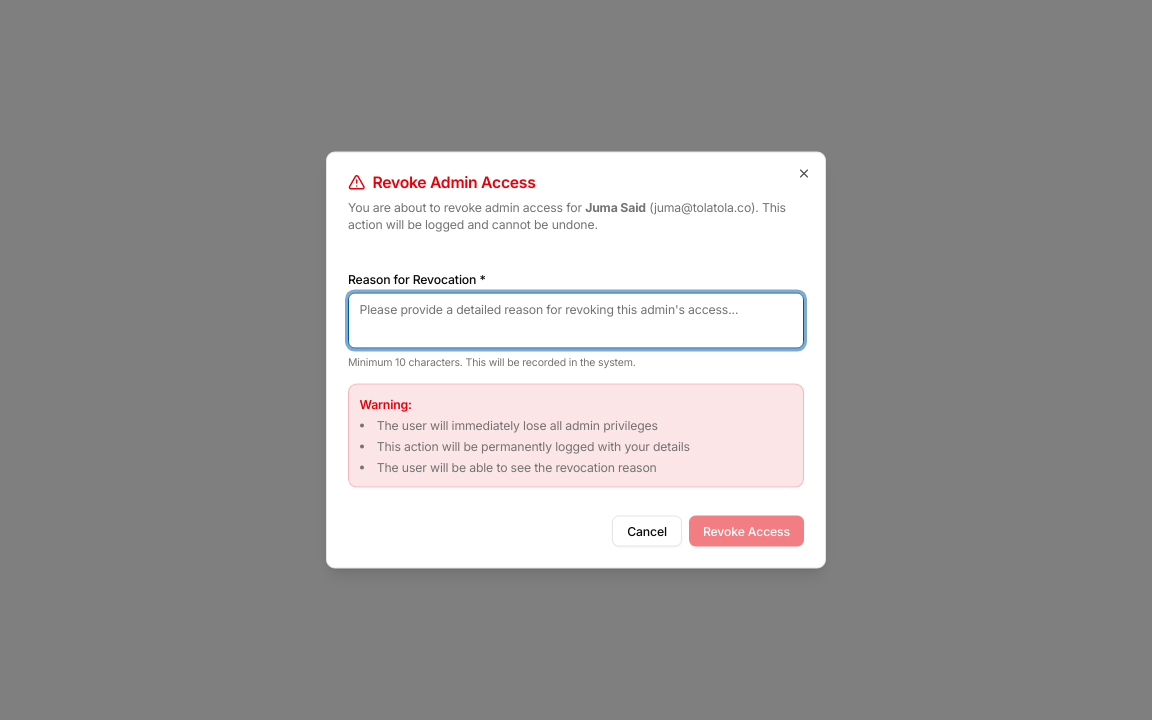
Test: RevokeAdminDialog › calls onConfirm with the trimmed-valid reason and clears the textarea
Type "Repeated policy violations" into the text box labelled "Reason for Revocation *" at x=576, y=320, box x1=348 y1=292 x2=804 y2=348
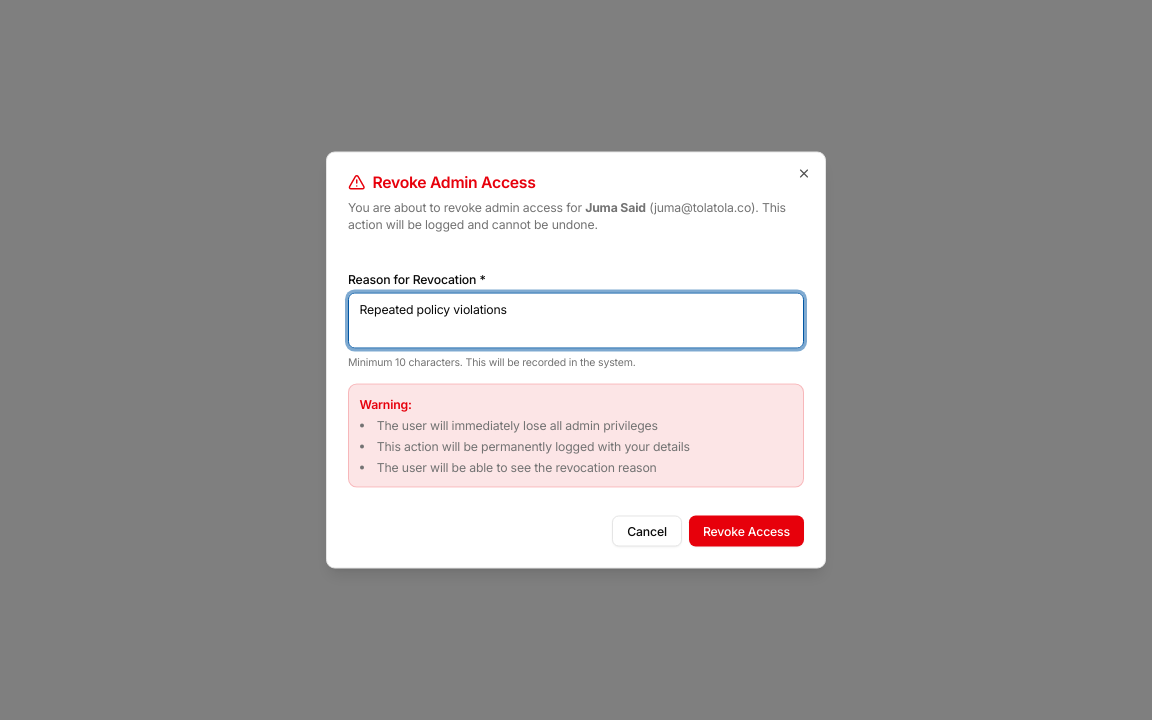
Click the button "Revoke Access" at x=746, y=531, box x1=689 y1=515 x2=804 y2=546
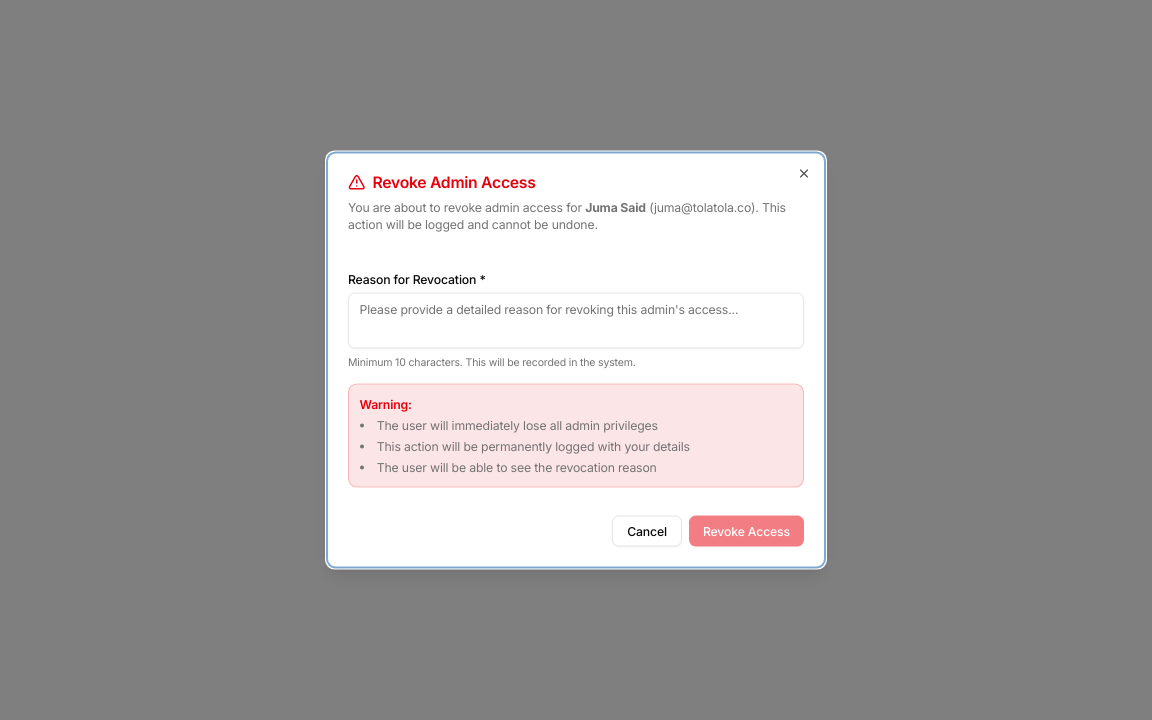
Result: the text box labelled "Reason for Revocation *" is empty at x1=348 y1=292 x2=804 y2=348
